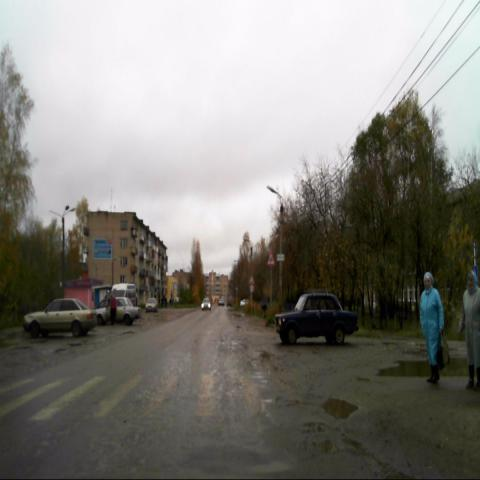1_23: (267, 251, 275, 266)
